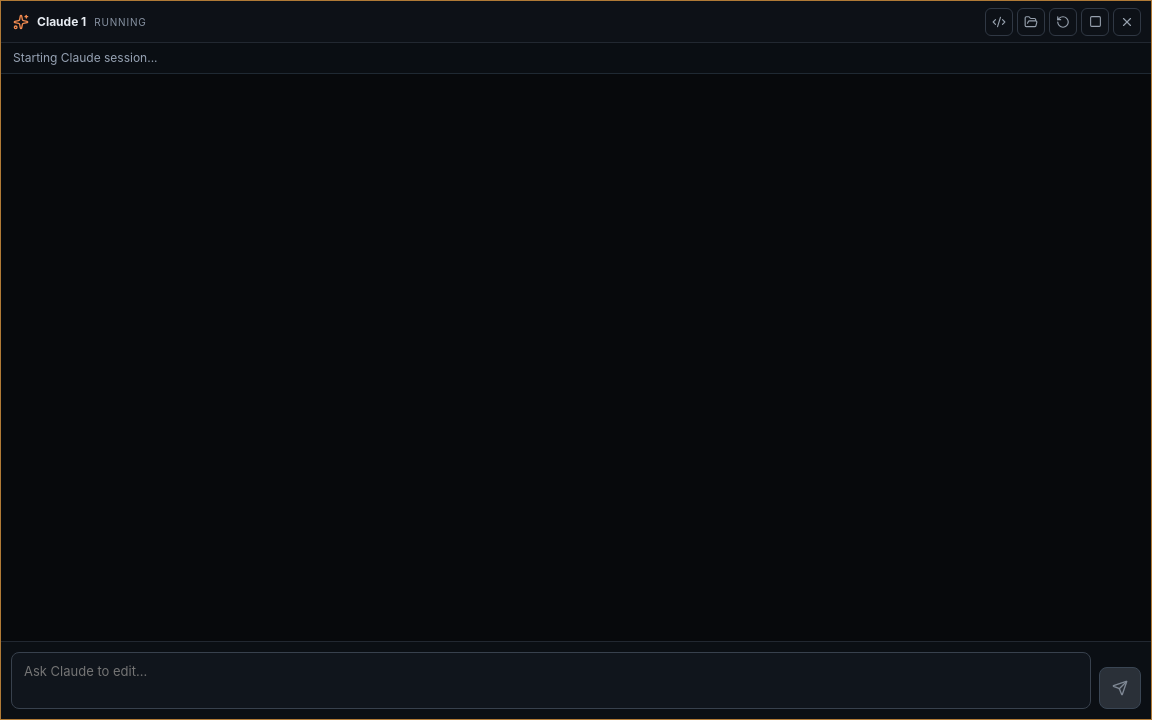
Test case: ClaudePaneComponent › renders streamed output through the terminal emulator and keeps raw stream available
Step 1. Click the button titled "Show raw Claude stream" → (999, 22), box [985,8,1013,36]
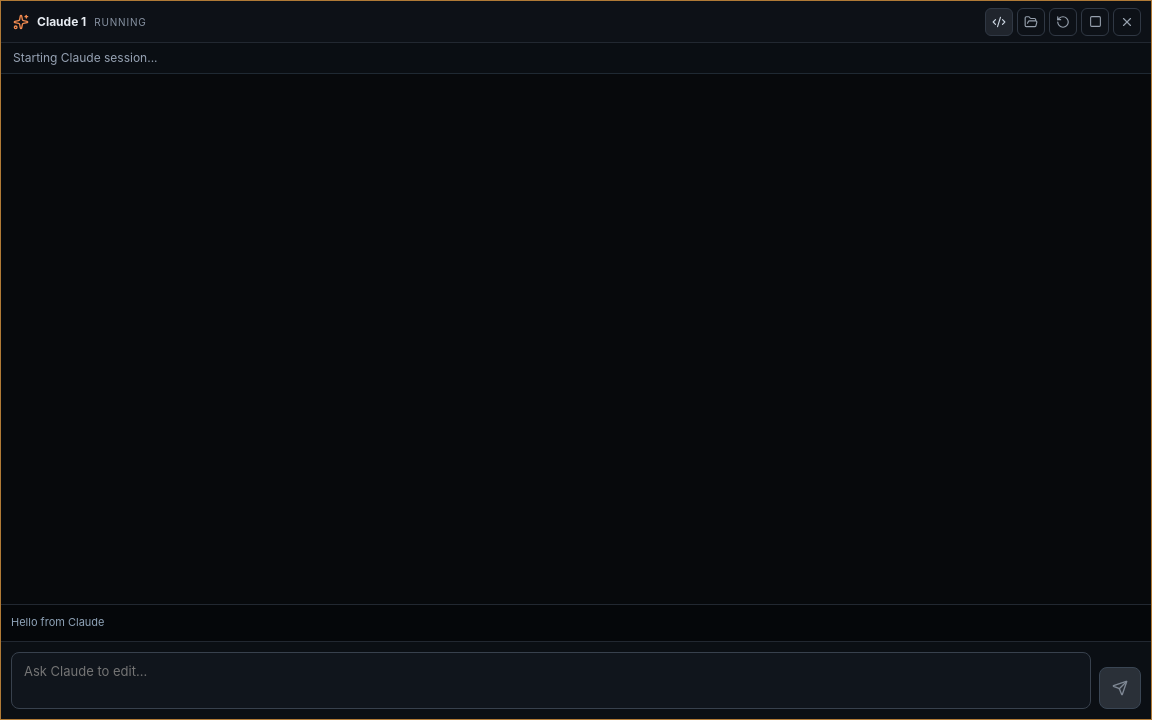
Now the text "Hello from Claude" is shown, box [1,604,1151,641]
